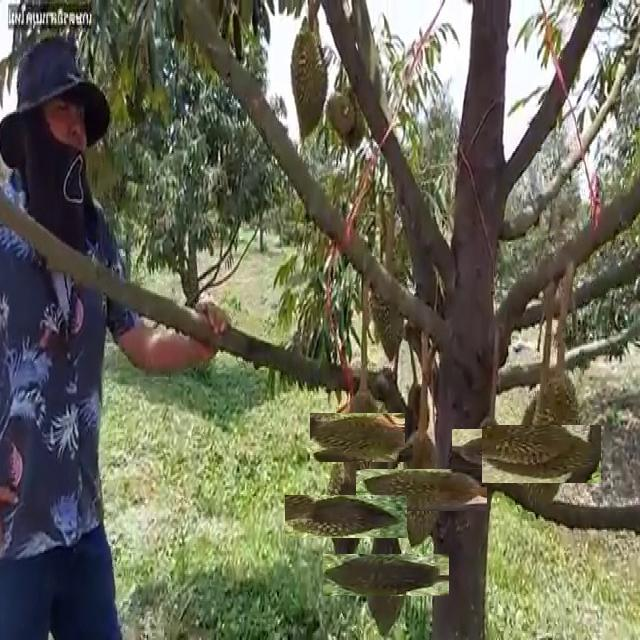durian: (497, 409, 586, 498), (378, 446, 465, 533), (343, 533, 428, 617), (528, 366, 582, 496), (305, 475, 388, 558), (323, 399, 399, 476), (289, 28, 327, 144), (369, 262, 406, 366), (462, 419, 523, 479), (323, 86, 357, 142), (405, 378, 430, 443)
